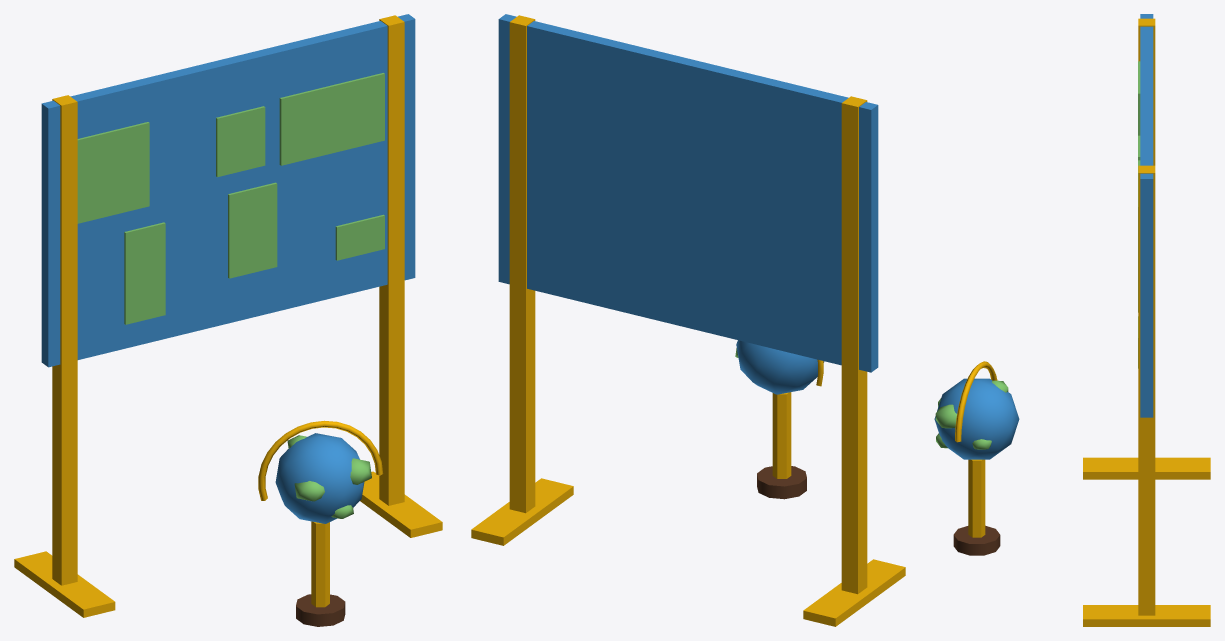
Rendered from station_transport_ausstattung_1_1.glb.
The picture shows the model from 3 angles, left to right: view 1: azimuth 30°, elevation 25°; view 2: azimuth 150°, elevation 25°; view 3: azimuth 270°, elevation 25°; orthographic projection. The views are drawn at different scales.
Parts seen in each view (by area): view 1: station_transport_ausstattung_1_1; view 2: station_transport_ausstattung_1_1; view 3: station_transport_ausstattung_1_1.
Boxes of the visible parts, <box> form: station_transport_ausstattung_1_1: <box>14,14,442,626</box>; station_transport_ausstattung_1_1: <box>471,14,905,626</box>; station_transport_ausstattung_1_1: <box>934,14,1210,626</box>.
Bounding box in the file's own units: 0.92 × 1.17 × 0.65.
